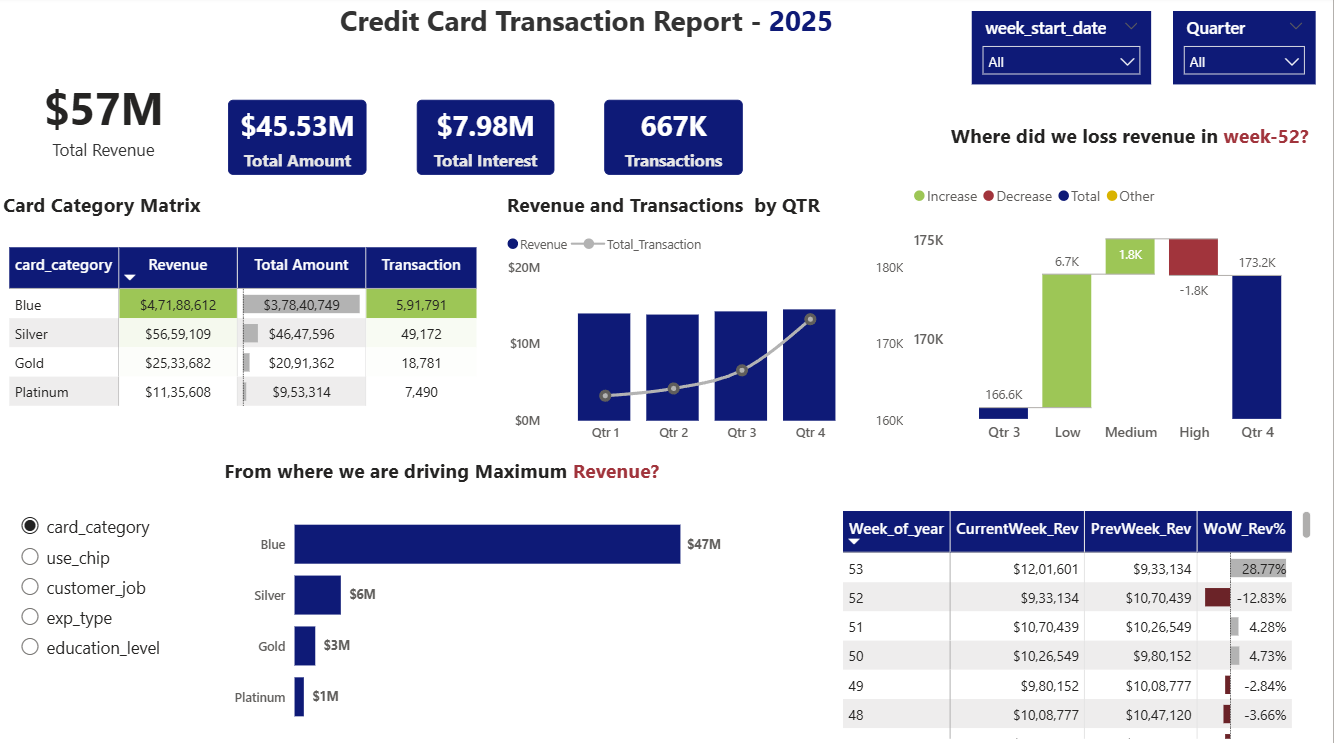

The page's visual inventory and layout, read from the dashboard file:
{"tool":"powerbi","page":{"name":"CC Transactions","canvas":[1280,720],"ordinal":0},"visuals":[{"type":"lineStackedColumnComboChart","fields":{"Category":["public cc_detail.week_start_date.Variation.Date Hierarchy.Quarter"],"Y":["Measure_Table.Revenue"],"Y2":["Measure_Table.Transaction_count"]},"box":[483.3,217.9,389.5,219.3],"z":0},{"type":"textbox","box":[483.3,181.8,389.5,36.1],"z":1000},{"type":"waterfallChart","fields":{"Category":["public cc_detail.week_start_date.Variation.Date Hierarchy.Quarter"],"Breakdown":["public cust_detail.IncomeGroup"],"Y":["Measure_Table.Total_Transaction"]},"box":[872.7,171.4,389,266],"z":2000},{"type":"textbox","box":[908.4,116.7,355.4,36.8],"z":3000},{"type":"slicer","fields":{"Values":["Category_selection.Category_selection"]},"box":[10.1,489.1,180.3,230.8],"z":4000},{"type":"barChart","fields":{"Category":["public cc_detail.card_category"],"Y":["Measure_Table.Revenue"]},"box":[220.7,474.7,477.6,242.4],"z":5000},{"type":"textbox","box":[212.1,437.5,477,36],"z":6000},{"type":"pivotTable","fields":{"Rows":["public cc_detail.card_category"],"Values":["Measure_Table.Revenue","Measure_Table.Total Amount","Measure_Table.Total_Transaction"]},"box":[5.8,236.6,461.7,165.9],"z":7000},{"type":"textbox","box":[0,181.8,477.6,36.1],"z":8000},{"type":"card","fields":{"Values":["Measure_Table.Total Amount"]},"box":[220.5,99.5,133,71.9],"z":9000},{"type":"card","fields":{"Values":["Measure_Table.Total Interest"]},"box":[401.6,99.5,131.8,71.9],"z":10000},{"type":"card","fields":{"Values":["Measure_Table.Total_Transaction"]},"box":[581.4,99.4,132.7,72.1],"z":11000},{"type":"slicer","fields":{"Values":["public cc_detail.week_start_date.Variation.Date Hierarchy.Quarter"]},"box":[1126.6,14.4,136.6,70.7],"z":12000},{"type":"slicer","fields":{"Values":["public cc_detail.week_start_date"]},"box":[933.5,14.4,171.7,70.7],"z":13000},{"type":"textbox","box":[212.4,0,704.4,71.5],"z":14000},{"type":"card","fields":{"Values":["Measure_Table.Revenue"]},"box":[5.8,63.5,190.4,108.2],"z":15000},{"type":"pivotTable","fields":{"Rows":["public cc_detail.Week_of_year"],"Values":["Measure_Table.CurrentWeek_Rev","Measure_Table.PrevWeek_Rev","Measure_Table.WoW_Rev%"]},"box":[805.1,489.1,458.8,228],"z":16000}]}

Visuals, with their boxes in screenshot pixels (x1, y1, x2, y2), scaled from the page's 1280x720 canvas onto the 1334x743 screenshot:
lineStackedColumnComboChart - public cc_detail.week_start_date.Variation.Date Hierarchy.Quarter x Measure_Table.Revenue: 504:225:910:451
textbox: 504:188:910:225
waterfallChart - public cc_detail.week_start_date.Variation.Date Hierarchy.Quarter x public cust_detail.IncomeGroup: 910:177:1315:451
textbox: 947:120:1317:158
slicer - Category_selection.Category_selection: 11:505:198:742
barChart - public cc_detail.card_category x Measure_Table.Revenue: 230:490:728:740
textbox: 221:451:718:489
pivotTable - public cc_detail.card_category x Measure_Table.Revenue: 6:244:487:415
textbox: 0:188:498:225
card - Measure_Table.Total Amount: 230:103:368:177
card - Measure_Table.Total Interest: 419:103:556:177
card - Measure_Table.Total_Transaction: 606:103:744:177
slicer - public cc_detail.week_start_date.Variation.Date Hierarchy.Quarter: 1174:15:1316:88
slicer - public cc_detail.week_start_date: 973:15:1152:88
textbox: 221:0:955:74
card - Measure_Table.Revenue: 6:66:204:177
pivotTable - public cc_detail.Week_of_year x Measure_Table.CurrentWeek_Rev: 839:505:1317:740
